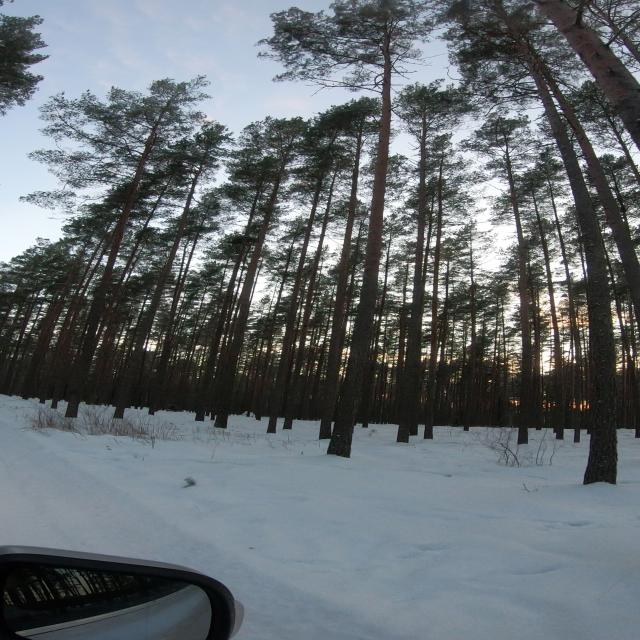trees: (449, 0, 637, 483), (262, 0, 430, 456), (32, 78, 206, 417), (114, 122, 229, 418), (216, 118, 307, 427), (268, 108, 348, 432), (395, 81, 466, 442), (469, 115, 538, 443), (319, 97, 379, 439), (535, 0, 639, 148), (149, 209, 208, 415), (161, 214, 205, 362), (608, 258, 640, 438), (534, 196, 563, 389), (551, 192, 581, 361), (0, 14, 47, 114), (428, 156, 444, 410), (264, 242, 293, 375), (588, 0, 639, 68), (0, 294, 15, 333), (424, 410, 432, 438), (256, 395, 262, 420)
